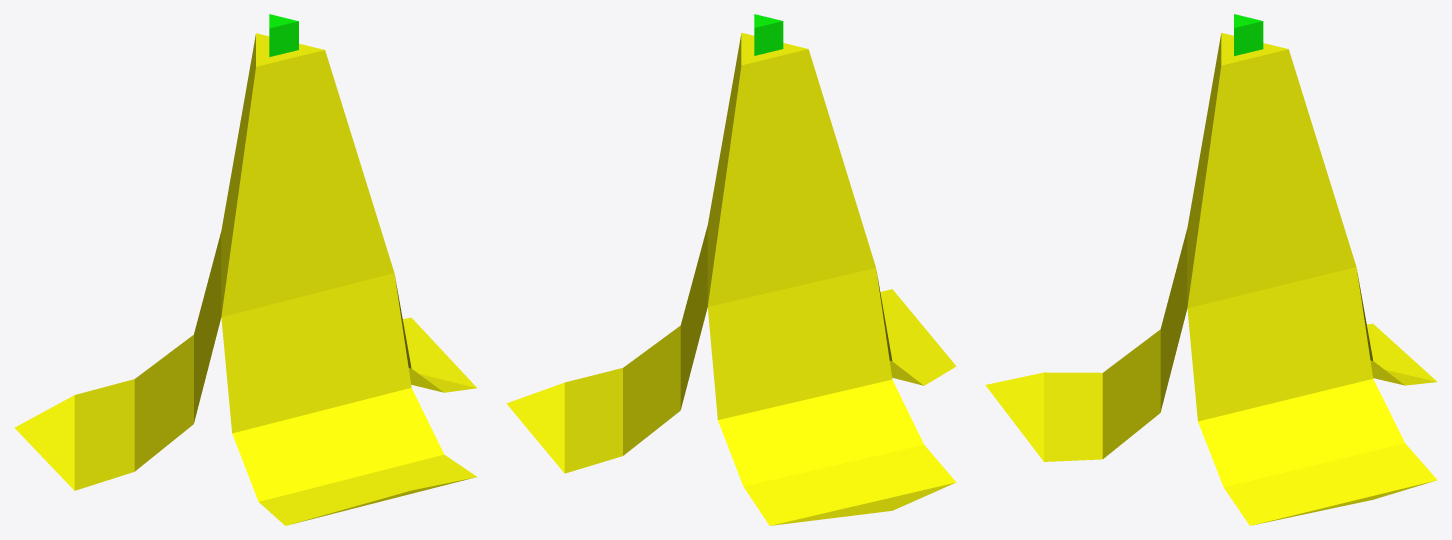
File: BananaPeel.fbx
3 renders of one model, left to right at view 1: azimuth 30°, elevation 25°; view 2: azimuth 150°, elevation 25°; view 3: azimuth 270°, elevation 25°, orthographic. The views are drawn at different scales.
Visible parts, largest first — view 1: Cylinder; view 2: Cylinder; view 3: Cylinder.
Boxes of the visible parts, bbox=[...] form: Cylinder: bbox=[14, 14, 476, 525]; Cylinder: bbox=[506, 14, 956, 525]; Cylinder: bbox=[985, 14, 1437, 525].
Bounding box in the file's own units: 403 × 404 × 401.
